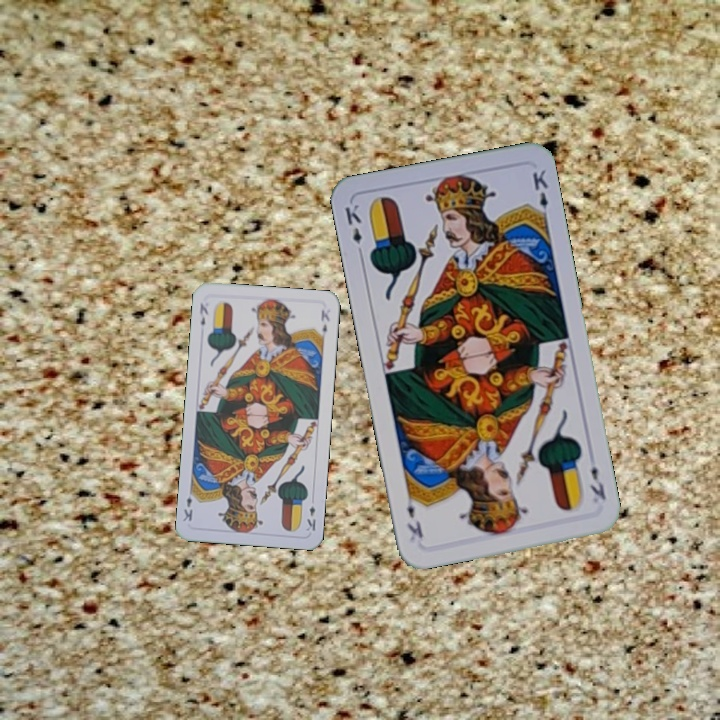EK: (341, 200, 366, 260), (586, 462, 609, 503), (302, 502, 318, 534), (196, 299, 211, 328)
